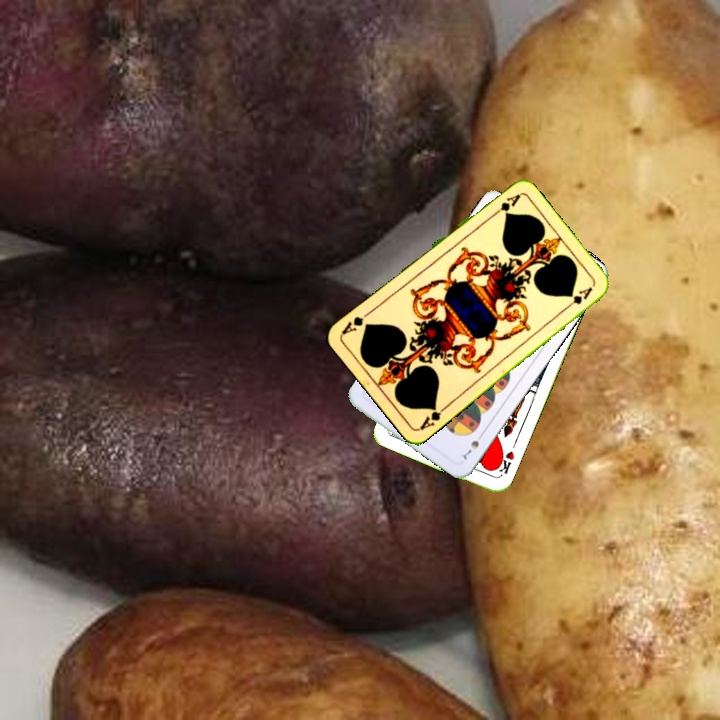GA: (416, 401, 450, 433), (487, 190, 523, 220)
HK: (491, 447, 517, 477)
S7: (459, 428, 486, 462)
